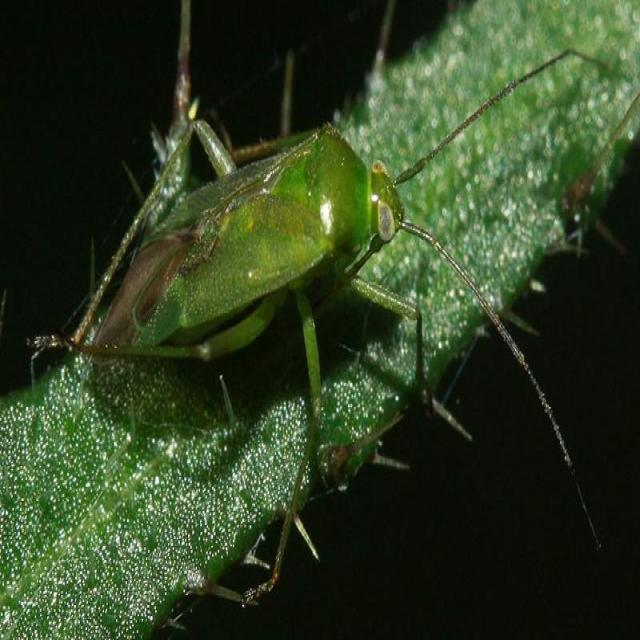Miridae-Adult-: (51, 70, 495, 506)
